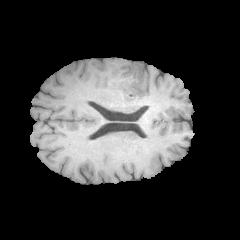glioma: (105, 61, 150, 102)
